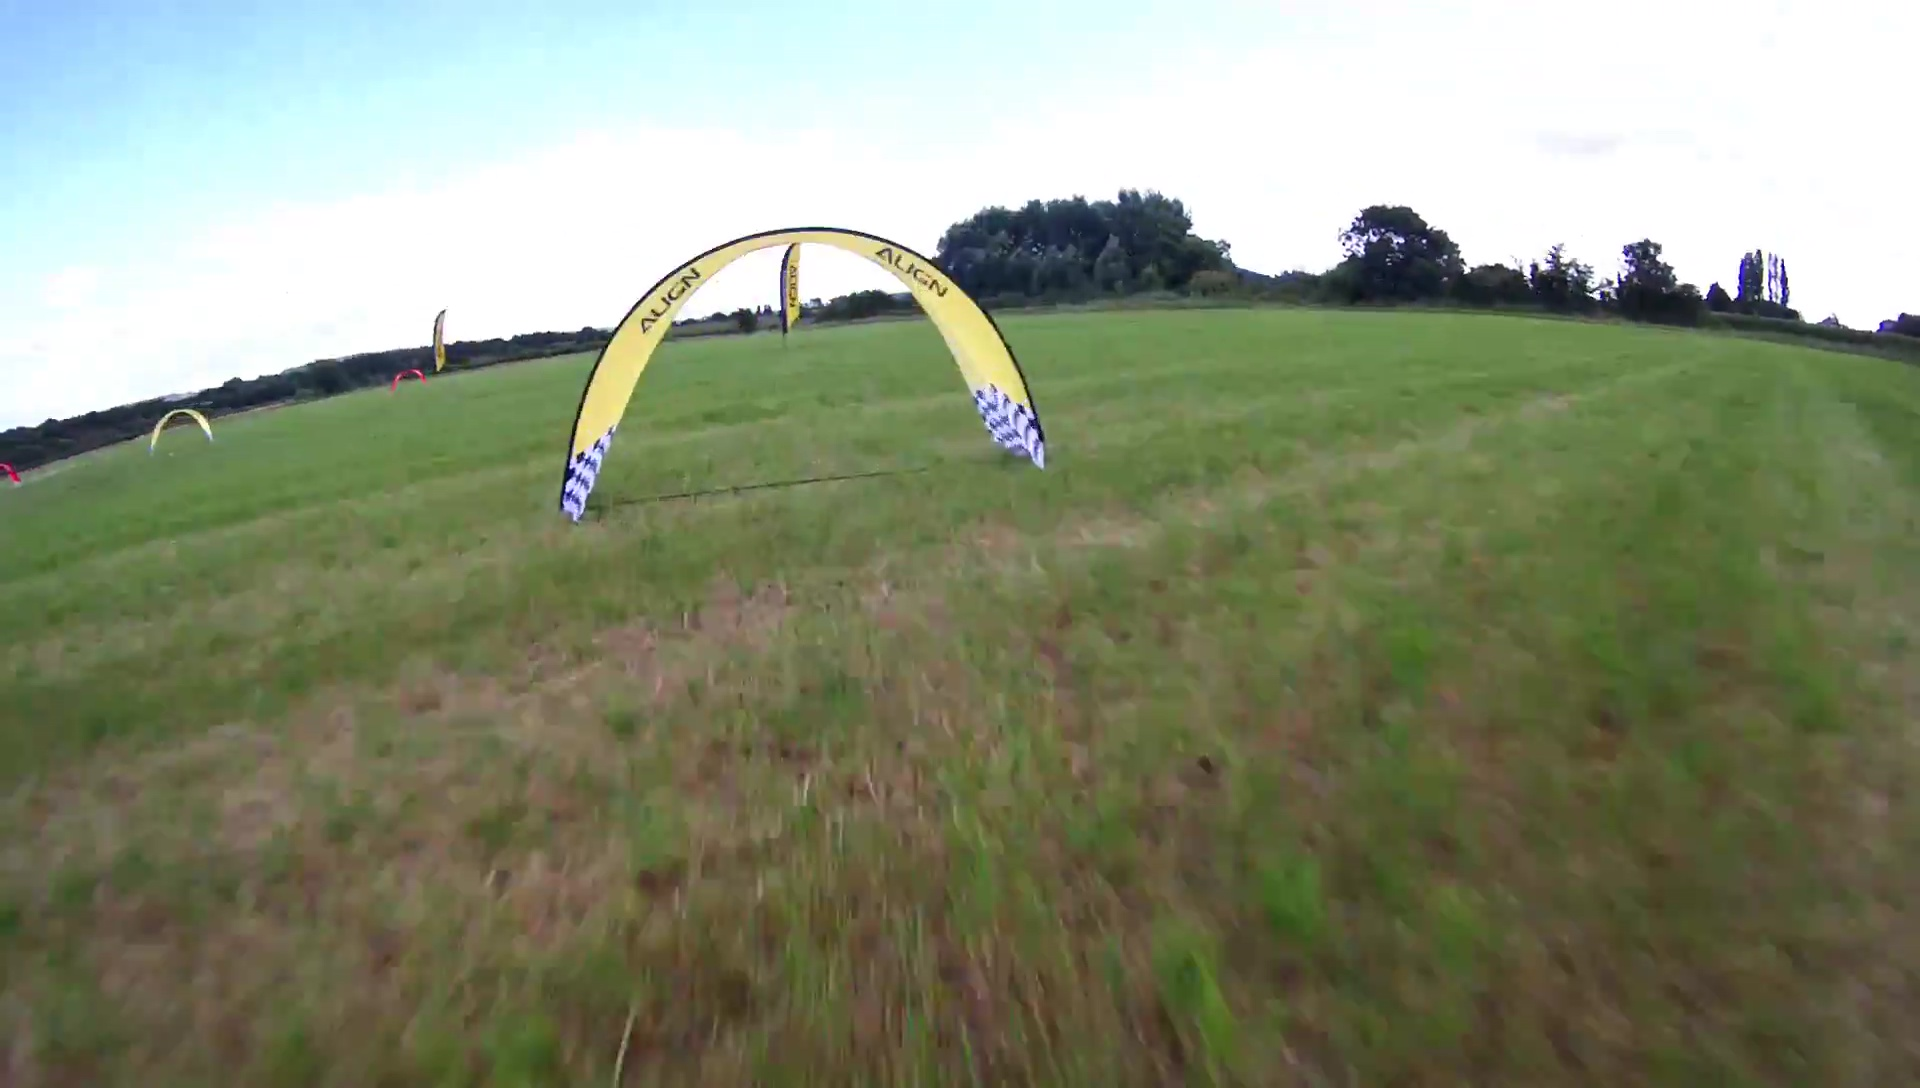gate: (556, 224, 1058, 525), (148, 409, 215, 455), (389, 368, 433, 393)
